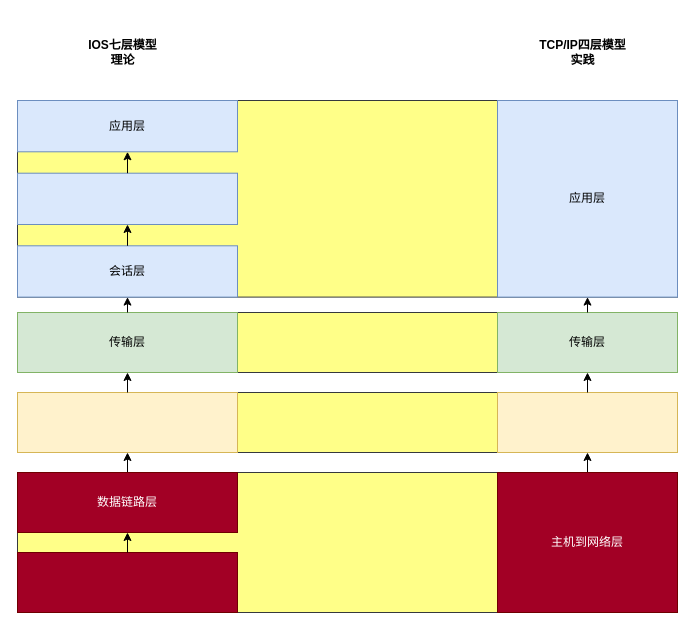
This 695x630 diagram has some shape labels left out. The shapes that lost their labels are listed below. From the top down, each one's box as (x1, y1, x2, y2) in pixels, then its label:
(16, 172, 238, 224): 表示层
(16, 392, 238, 452): 网络层
(496, 392, 678, 452): 网络互联层
(16, 552, 238, 612): 物理层
